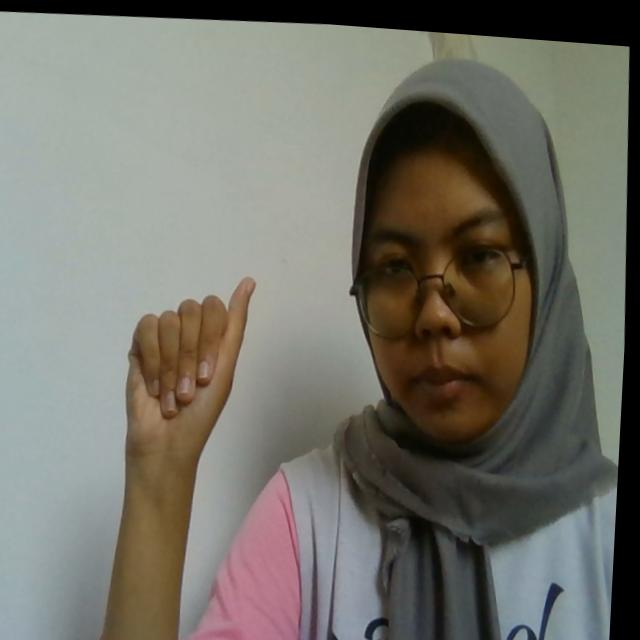A: (123, 264, 267, 454)
